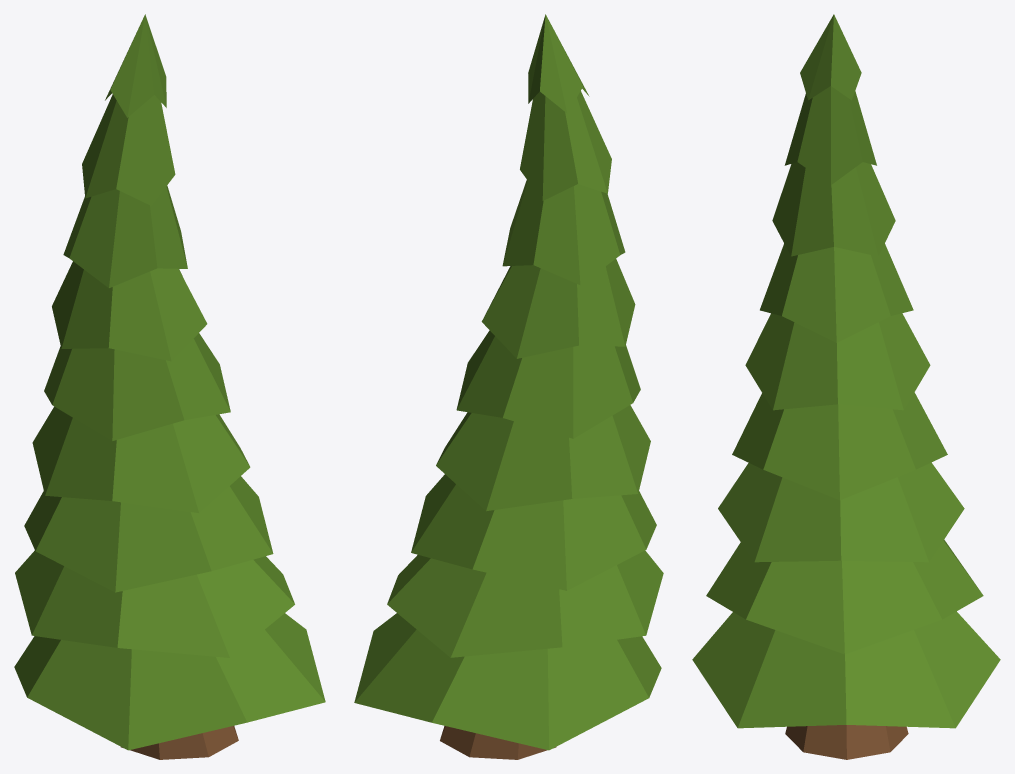
Rendered from Pine02.fbx.
3 renders of one model, left to right at view 1: azimuth 30°, elevation 25°; view 2: azimuth 150°, elevation 25°; view 3: azimuth 270°, elevation 25°, orthographic. The views are drawn at different scales.
Parts seen in each view (by area): view 1: Pine; view 2: Pine; view 3: Pine.
Boxes of the visible parts, x1=… form: Pine: x1=14, y1=14, x2=325, y2=759; Pine: x1=354, y1=14, x2=663, y2=759; Pine: x1=692, y1=14, x2=1000, y2=759.
Bounding box in the file's own units: 200 × 200 × 502.
